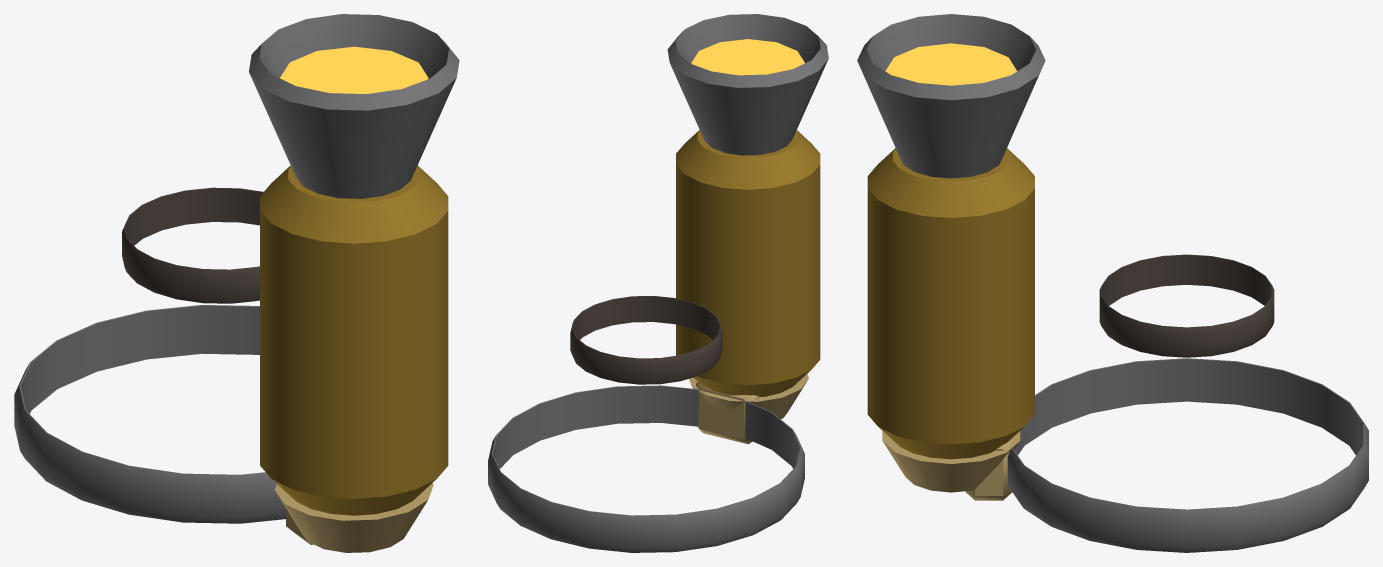
The model's file is Kit_Active_JetBoots.glb.
3 renders of one model, left to right at view 1: azimuth 30°, elevation 25°; view 2: azimuth 150°, elevation 25°; view 3: azimuth 270°, elevation 25°, orthographic. The views are drawn at different scales.
Visible parts, largest first — view 1: Kit_Active_JetBoots; view 2: Kit_Active_JetBoots; view 3: Kit_Active_JetBoots.
Part boxes in pixels (box(x1,y1,x2,y2)): Kit_Active_JetBoots: box(14, 14, 459, 552); Kit_Active_JetBoots: box(488, 14, 828, 552); Kit_Active_JetBoots: box(857, 14, 1368, 552).
Bounding box in the file's own units: 0.156 × 0.205 × 0.2172.
